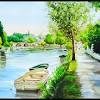lake: (2, 47, 61, 98)
tree: (49, 4, 87, 66)
